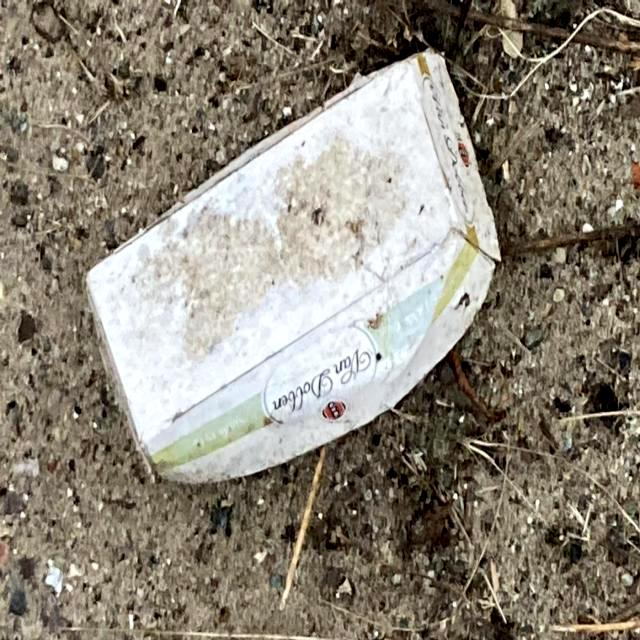Paper: (81, 43, 506, 494)
